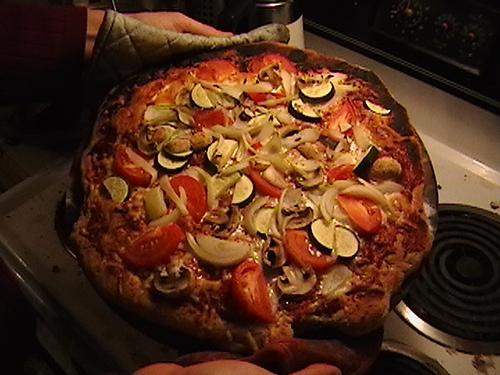mushroom: (152, 256, 196, 300), (274, 262, 318, 301), (212, 205, 241, 239), (137, 123, 166, 152), (368, 157, 402, 180), (262, 237, 287, 268), (282, 206, 314, 230), (258, 63, 283, 88), (296, 166, 324, 188), (190, 131, 212, 152), (202, 210, 228, 225), (238, 108, 262, 122), (166, 140, 192, 152), (278, 126, 301, 138)
onion: (185, 231, 252, 268), (318, 264, 361, 302), (210, 120, 264, 150), (149, 186, 188, 227), (340, 184, 388, 213), (124, 147, 157, 188), (159, 175, 190, 215), (240, 196, 270, 235), (190, 166, 216, 207), (282, 128, 322, 148), (145, 186, 167, 220), (250, 114, 273, 145), (357, 177, 386, 200), (277, 186, 290, 236), (258, 155, 288, 176), (320, 189, 338, 223), (202, 126, 224, 150), (148, 110, 178, 126), (352, 124, 370, 150), (221, 160, 250, 176), (374, 180, 404, 194), (234, 82, 274, 92), (218, 139, 238, 157), (282, 69, 291, 97), (144, 106, 162, 120), (276, 111, 292, 124), (330, 73, 349, 82)
tomato: (230, 260, 277, 322), (124, 222, 186, 267), (282, 230, 337, 268), (169, 175, 207, 224), (113, 144, 153, 189), (338, 196, 382, 233), (245, 53, 297, 75), (249, 170, 281, 199), (193, 108, 226, 131), (326, 164, 359, 185), (328, 104, 350, 130), (195, 68, 214, 82), (248, 93, 266, 105), (252, 142, 263, 150)
